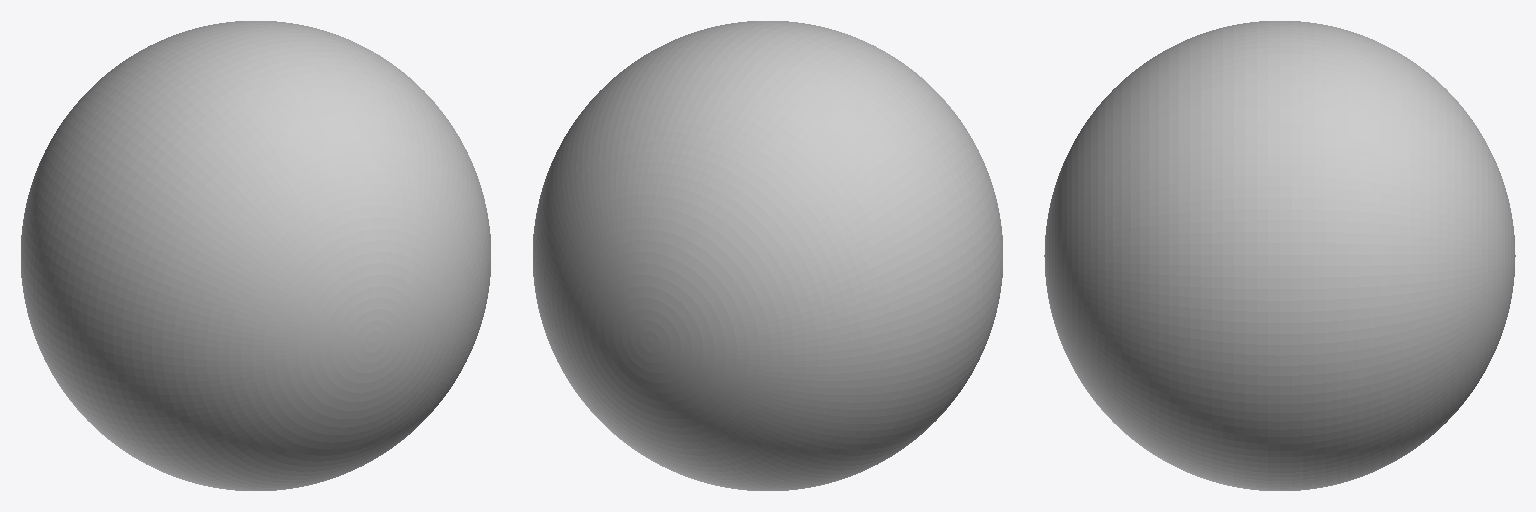
File: BigSphere.obj
3 renders of one model, left to right at view 1: azimuth 30°, elevation 25°; view 2: azimuth 150°, elevation 25°; view 3: azimuth 270°, elevation 25°, orthographic.
Visible parts, largest first — view 1: Sphere001; view 2: Sphere001; view 3: Sphere001.
Part boxes in pixels (x1,y1,x2,y2): Sphere001: (21, 21, 490, 490); Sphere001: (533, 21, 1002, 490); Sphere001: (1044, 21, 1515, 490).
Bounding box in the file's own units: 10 × 10 × 10.